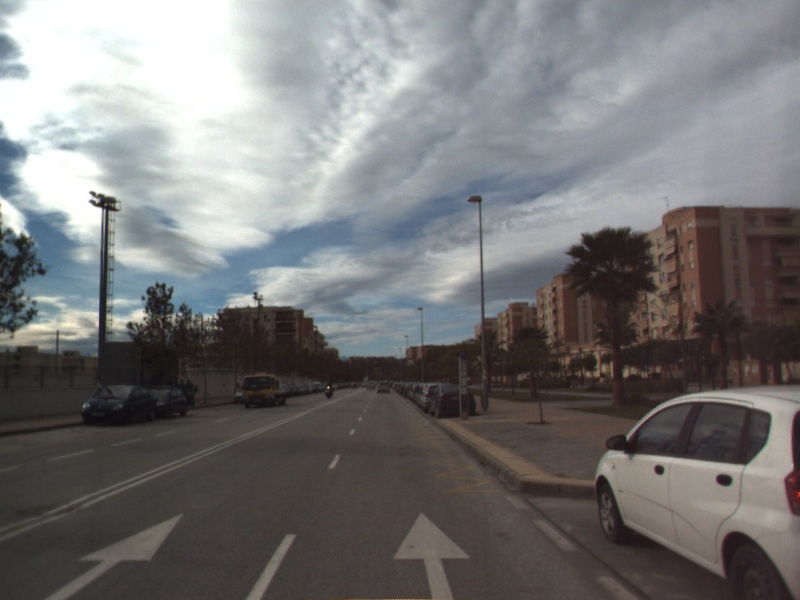STRAIGHT: (42, 511, 186, 600), (390, 510, 472, 600)
